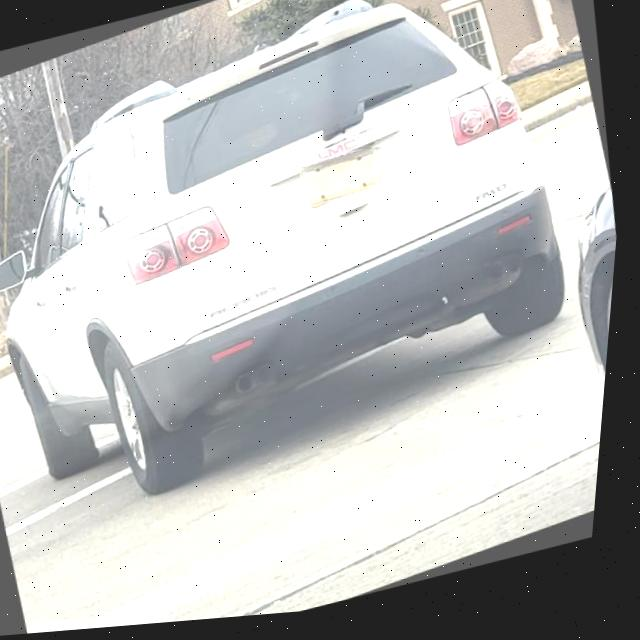LicensePlate: (303, 154, 382, 210)
